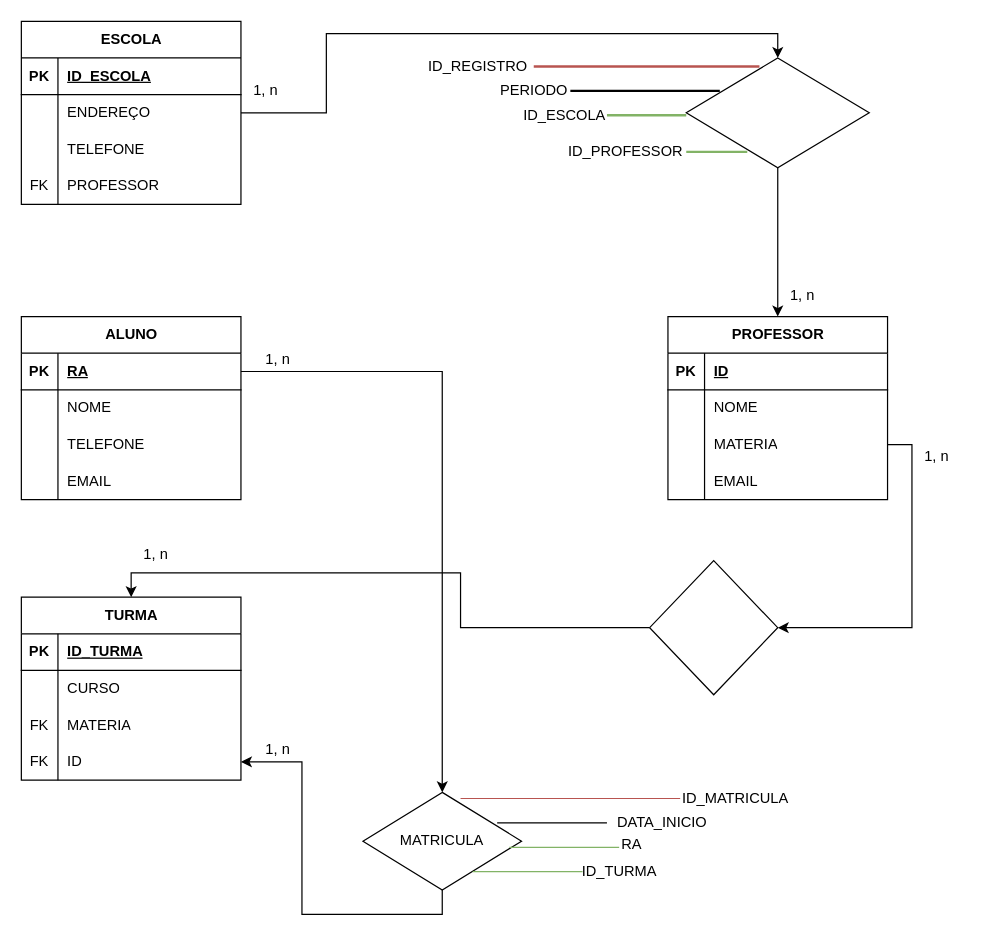
The diagram is 982 pixels wide and 946 high, and some of its shapes have lost their labels. Here are the shapes that lost their labels. From the top down, the centre of each, then its label:
At point 777,112: "REGISTRO".
At point 713,627: "TEM".
